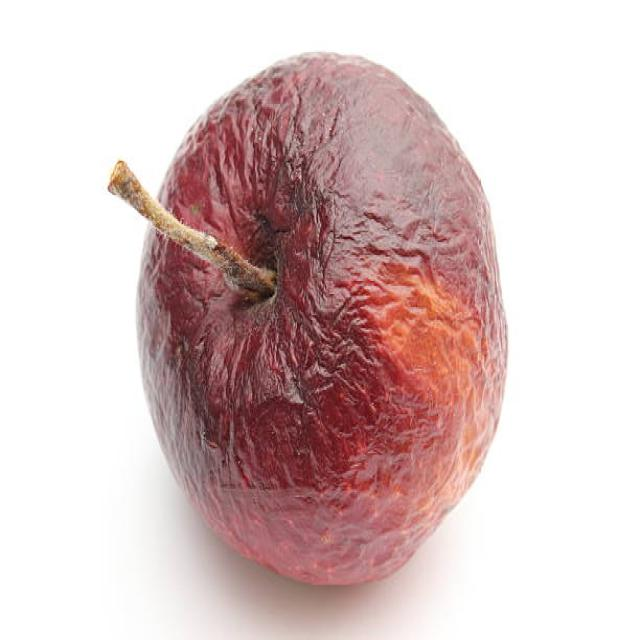overripe: (129, 43, 510, 596)
